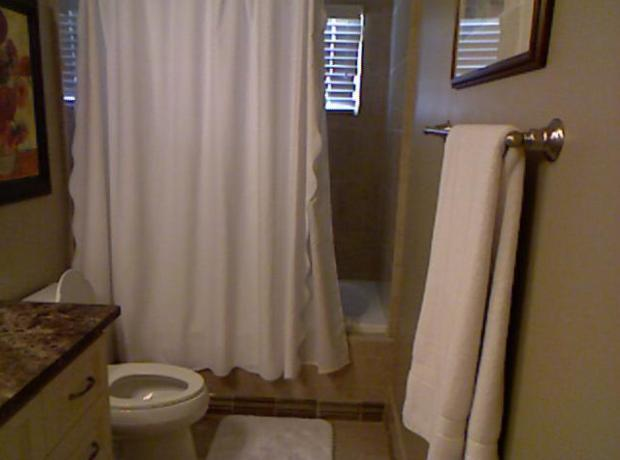Sanitario: (18, 279, 209, 457)
